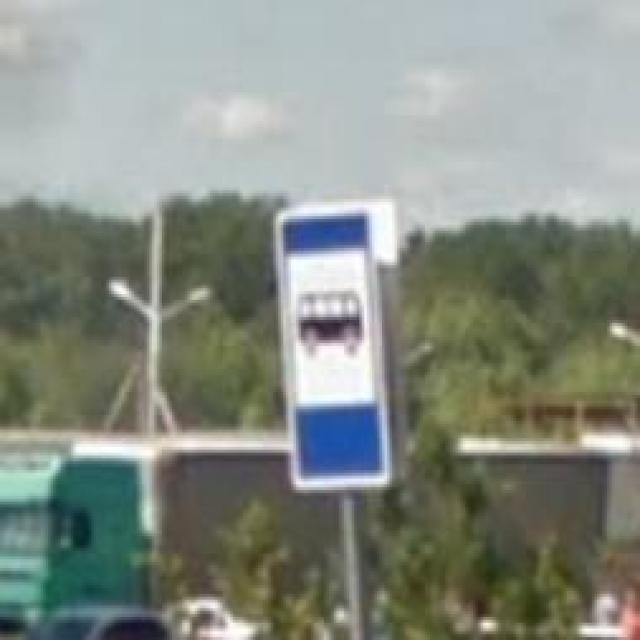traffic_sign: (273, 205, 392, 493)
